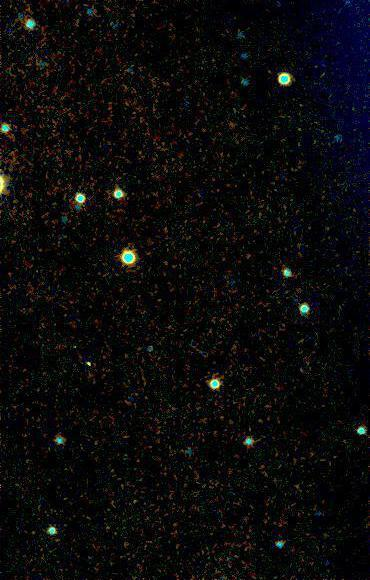star: (74, 351, 104, 381)
